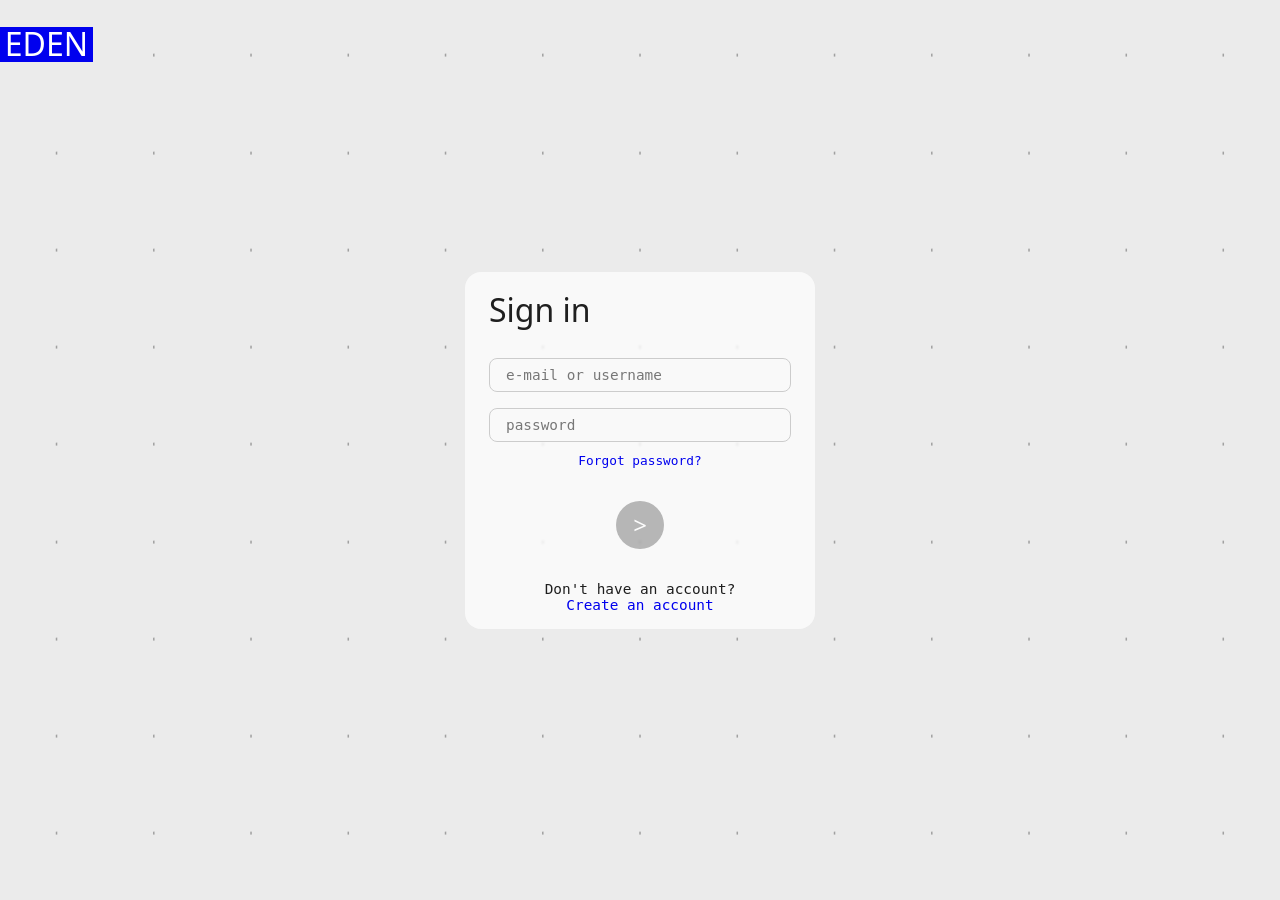
it: session routes › moves to the account page after sign-in
Expected: the heading "Sign in" is shown, [489,288,591,330]
Type "emma" into the field named "Email or username" at [640, 374], box [489,358,791,392]
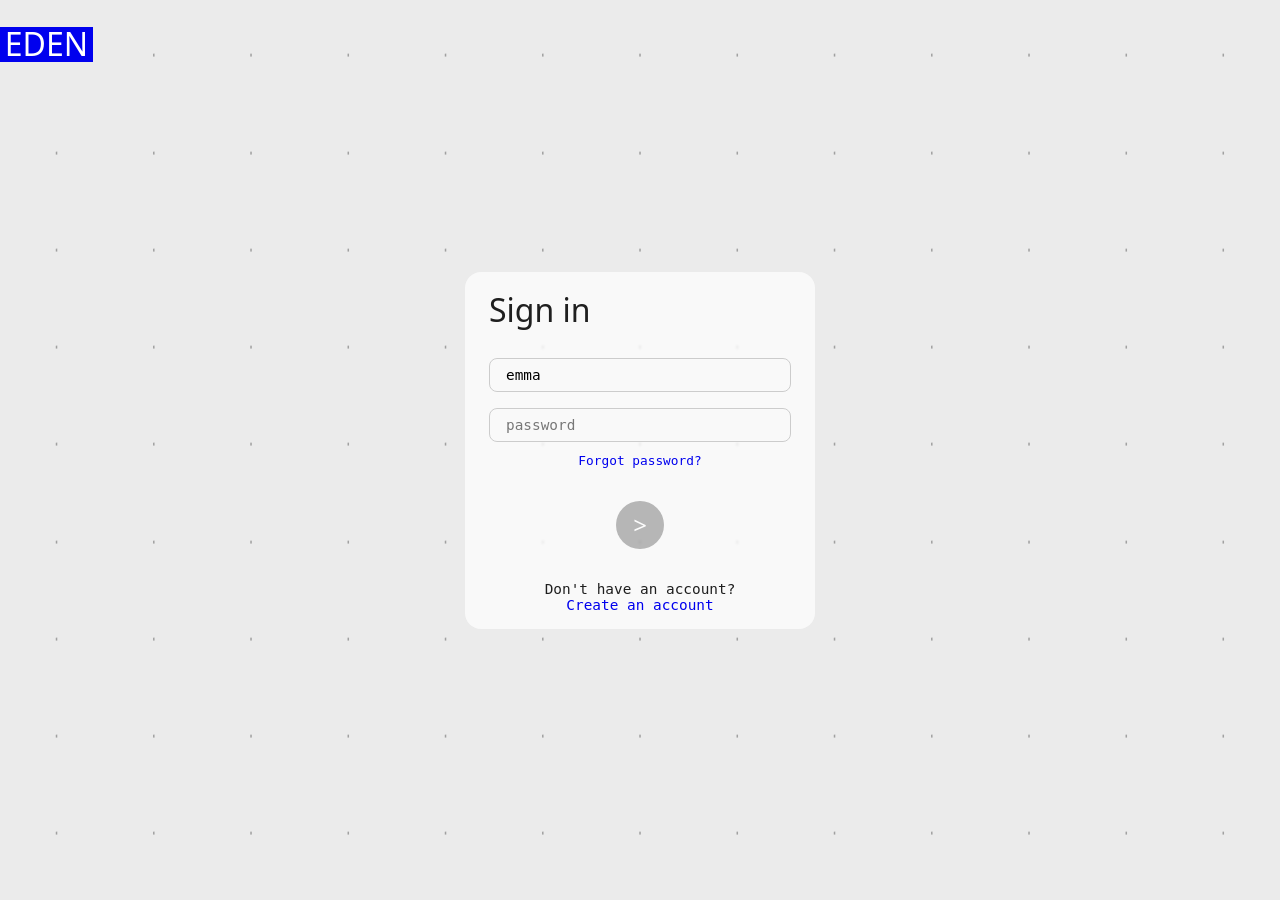
Type "Password123!" into the password field labelled "password" at [640, 424], box [489,408,791,442]
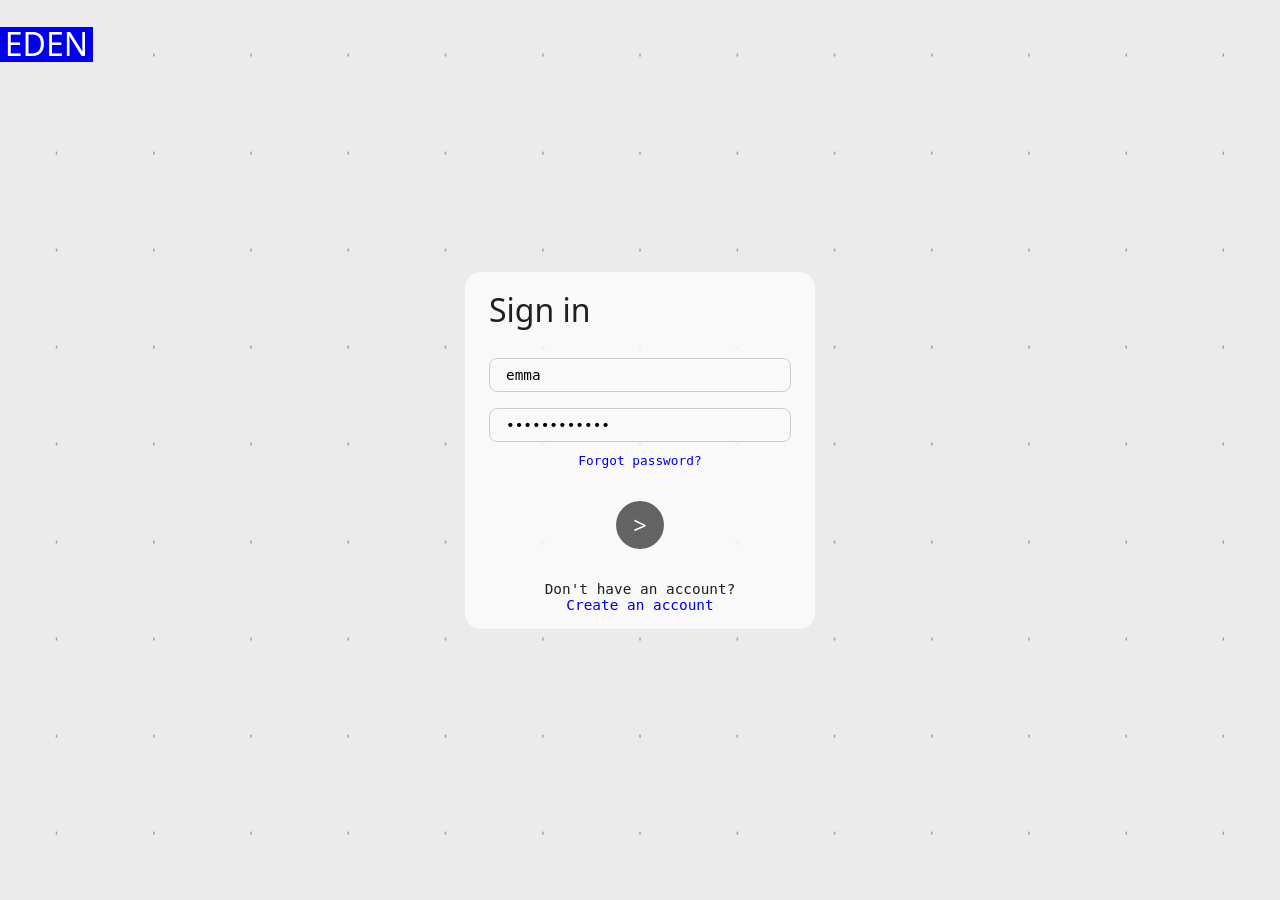
Click the button named "Sign in" at [640, 524], box [616,500,664,548]
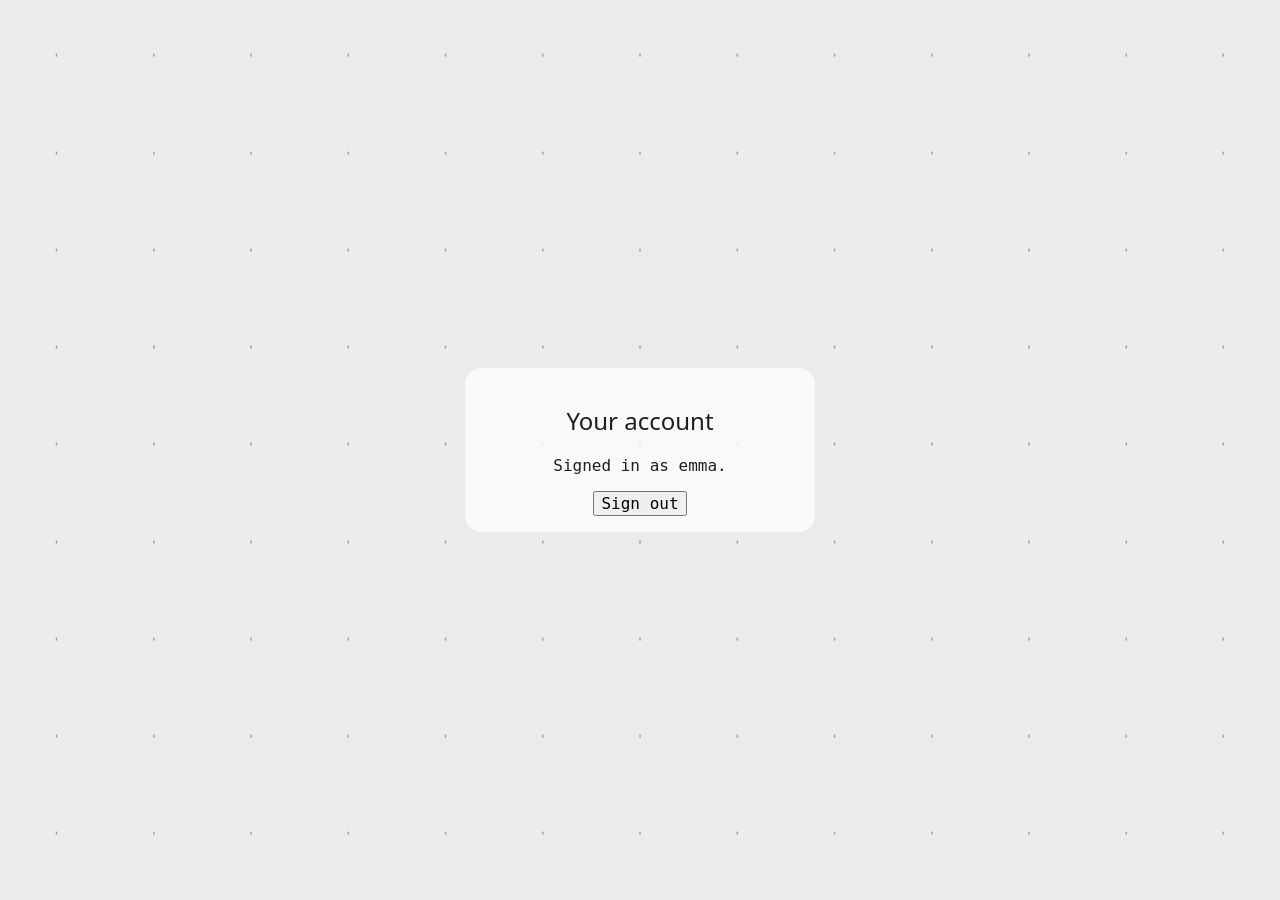
Result: the heading "Your account" is shown at [566,404,714,436]
